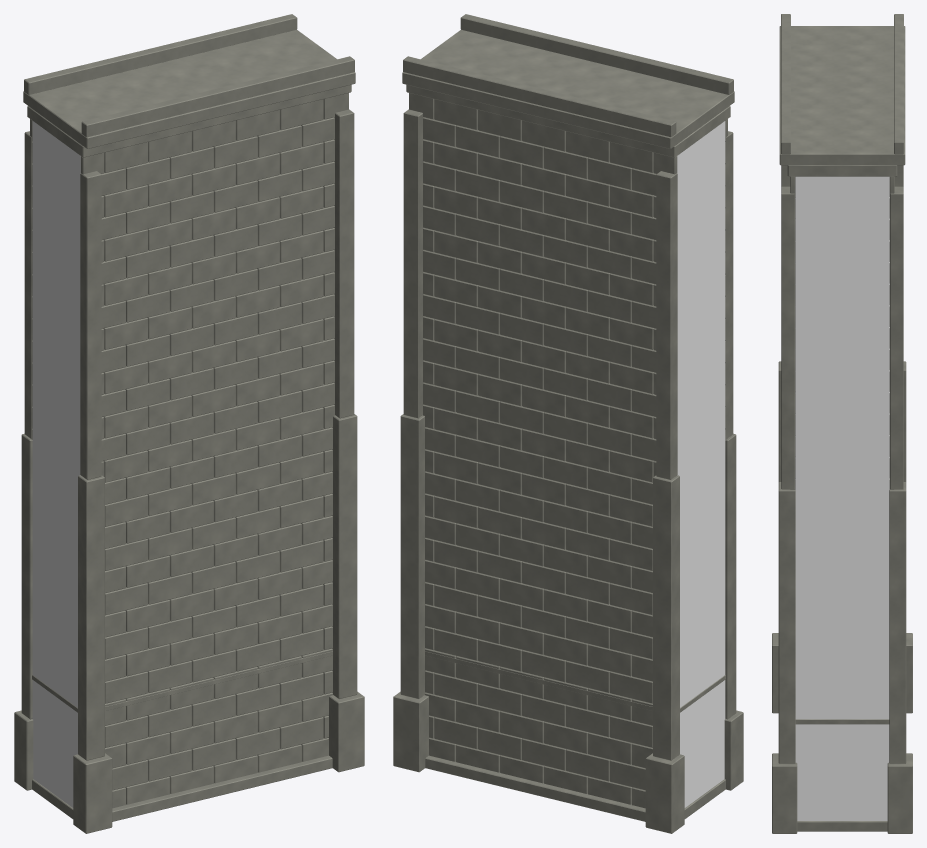
Rendered from GF2_Wall_Straight_24x60.fbx.
The picture shows the model from 3 angles, left to right: view 1: azimuth 30°, elevation 25°; view 2: azimuth 150°, elevation 25°; view 3: azimuth 270°, elevation 25°; orthographic projection. The views are drawn at different scales.
Visible parts, largest first — view 1: GF2_Wall_Straight_24x60.001; view 2: GF2_Wall_Straight_24x60.001; view 3: GF2_Wall_Straight_24x60.001.
Boxes of the visible parts, box(x1,y1,x2,y2) form: GF2_Wall_Straight_24x60.001: box(14, 14, 364, 833); GF2_Wall_Straight_24x60.001: box(393, 14, 743, 833); GF2_Wall_Straight_24x60.001: box(772, 14, 912, 833).
Size of the model in its own units: 25.1 by 60.55 by 11.2.
2 materials, 1 textured.
